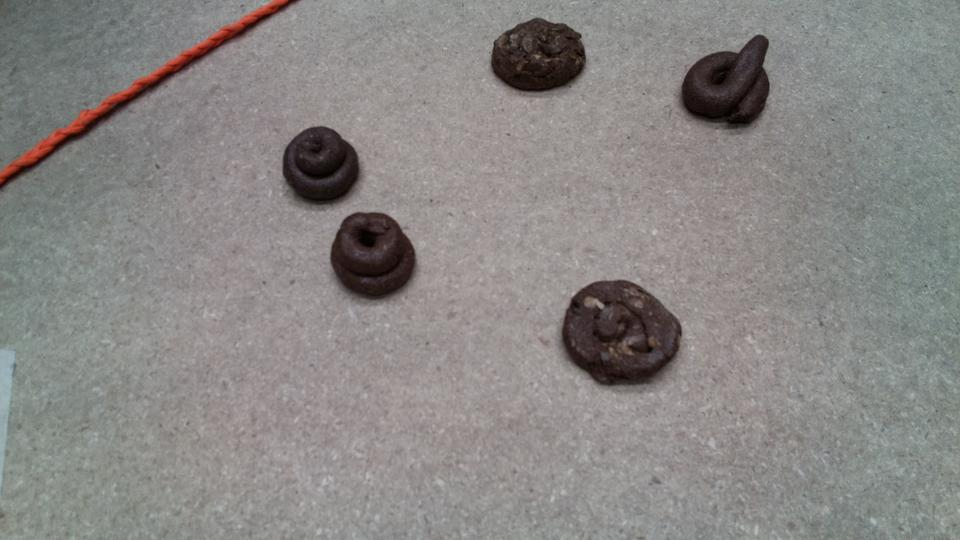poop: (558, 278, 690, 382), (673, 26, 776, 136), (326, 208, 420, 301), (483, 17, 592, 90), (276, 124, 364, 203)
rope: (85, 51, 197, 144), (176, 1, 309, 68), (1, 111, 91, 197)
